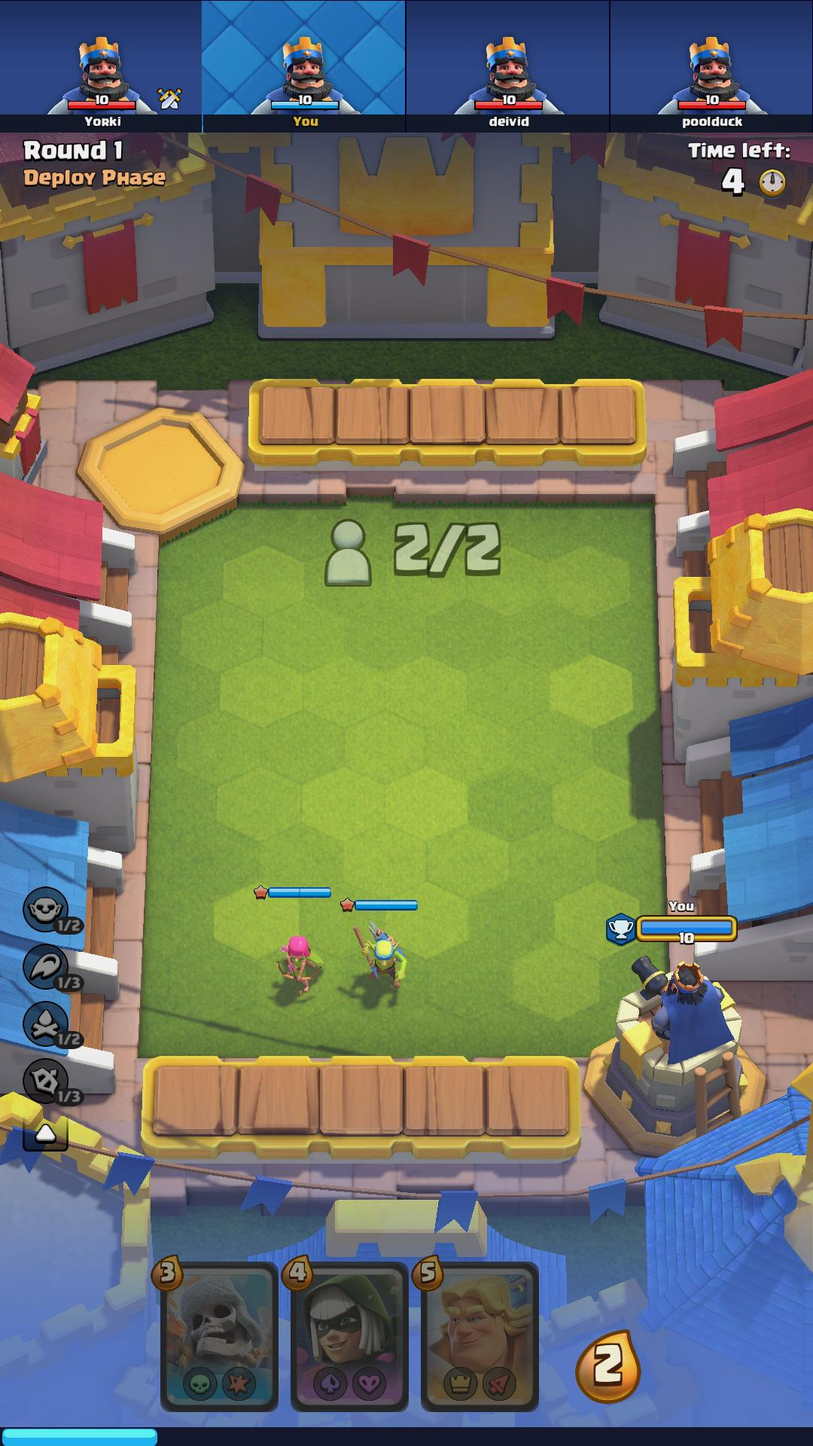archer: (270, 923, 324, 998)
hand-bandit: (296, 1273, 408, 1408)
hand-giant: (166, 1265, 277, 1410)
hand-golden: (425, 1267, 536, 1406)
spear: (337, 916, 418, 995)
